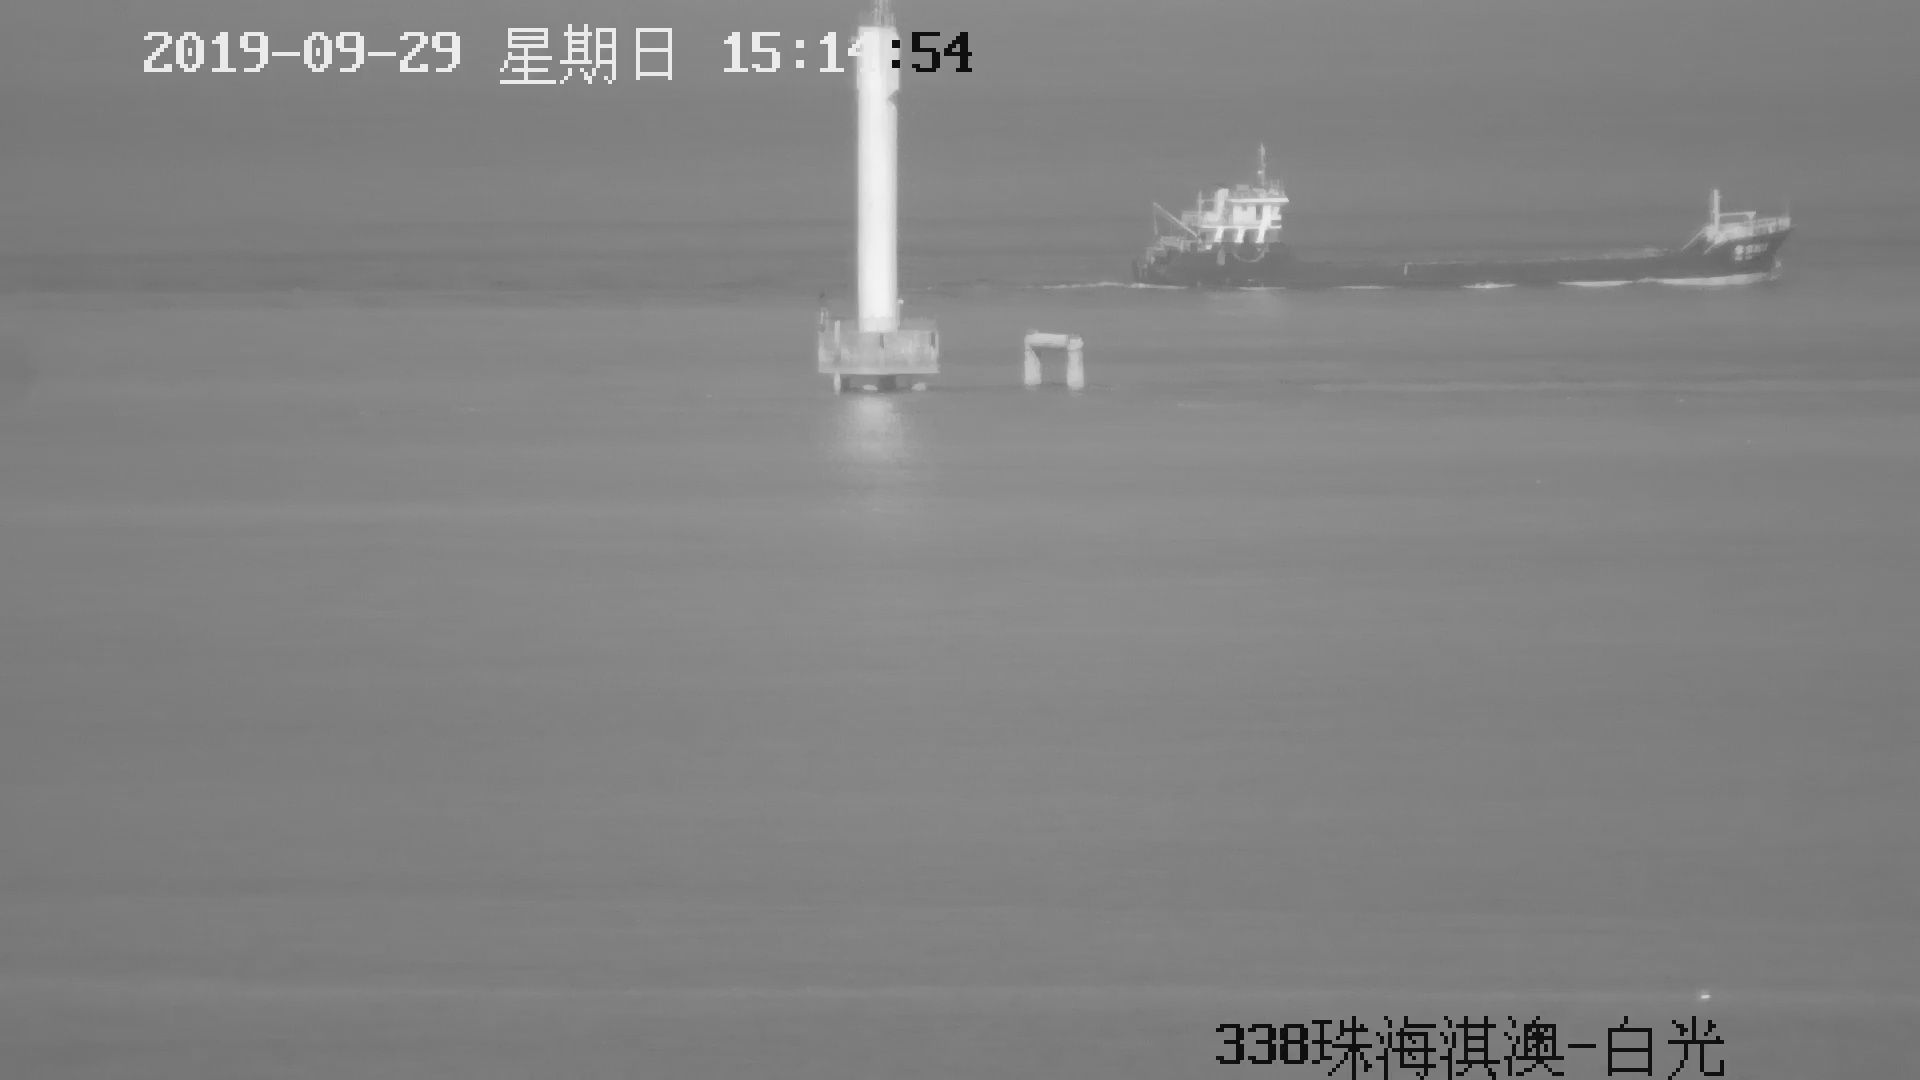ship: (1126, 141, 1803, 307)
